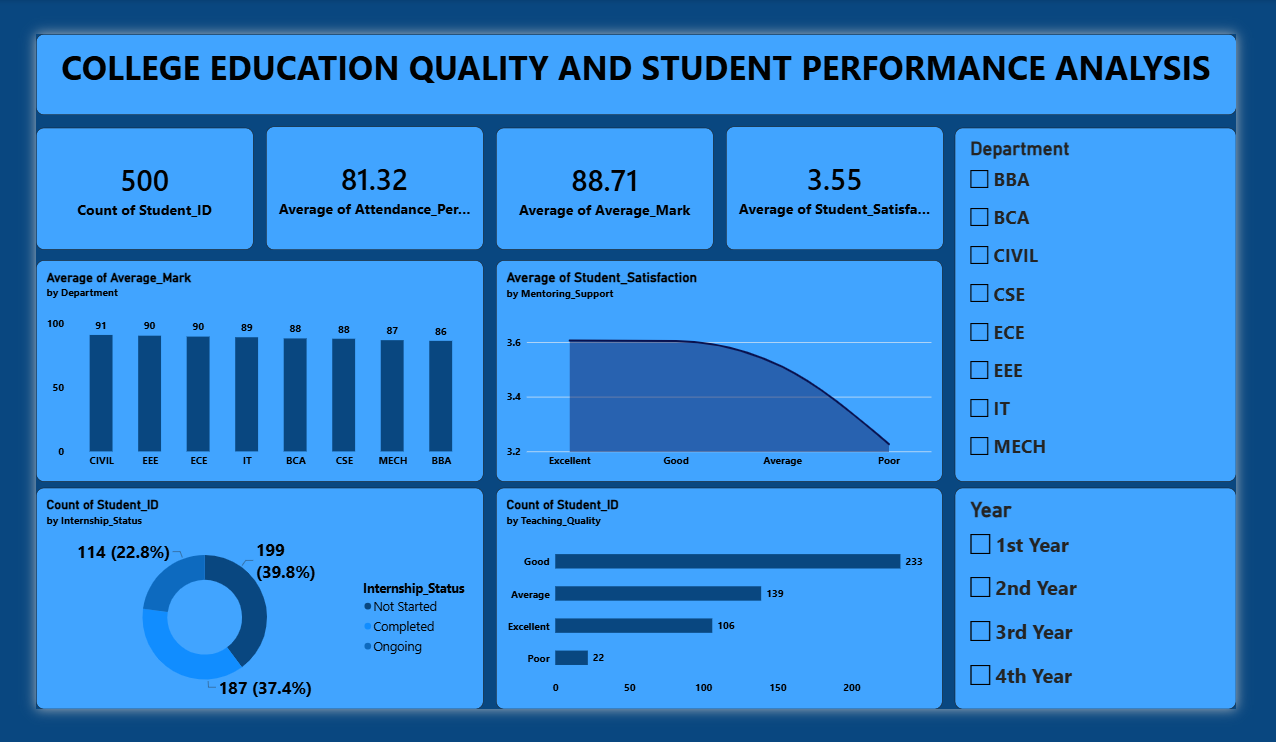

The page's visual inventory and layout, read from the dashboard file:
{"tool":"powerbi","page":{"name":"Page 2","canvas":[1920,1080],"ordinal":1},"visuals":[{"type":"textbox","box":[0,0,1920.4,129.7],"z":0},{"type":"card","fields":{"Values":["CountNonNull(EducationQualityData.Student_ID)"]},"box":[0,150.3,347.9,195.5],"z":1000},{"type":"card","fields":{"Values":["Avg(EducationQualityData.Attendance_Percentage)"]},"box":[368.4,148.2,347.9,197.6],"z":2000},{"type":"card","fields":{"Values":["Avg(EducationQualityData.Average_Mark)"]},"box":[736.9,150.3,347.9,195.5],"z":3000},{"type":"card","fields":{"Values":["Avg(EducationQualityData.Student_Satisfaction)"]},"box":[1103.3,148.2,347.9,197.6],"z":4000},{"type":"slicer","fields":{"Values":["EducationQualityData.Department"]},"box":[1469.6,150.3,450.8,566],"z":5000},{"type":"slicer","fields":{"Values":["EducationQualityData.Year"]},"box":[1469.6,726.6,450.8,354],"z":6000},{"type":"barChart","fields":{"Category":["EducationQualityData.Teaching_Quality"],"Y":["CountNonNull(EducationQualityData.Student_ID)"]},"box":[736.9,726.6,714.2,354],"z":7000},{"type":"columnChart","fields":{"Category":["EducationQualityData.Department"],"Y":["Avg(EducationQualityData.Average_Mark)"]},"box":[0,362.3,716.3,354],"z":8000},{"type":"donutChart","fields":{"Category":["EducationQualityData.Internship_Status"],"Y":["CountNonNull(EducationQualityData.Student_ID)"]},"box":[0,726.6,716.3,354],"z":9000},{"type":"areaChart","fields":{"Category":["EducationQualityData.Mentoring_Support"],"Y":["Avg(EducationQualityData.Student_Satisfaction)"]},"box":[736.9,362.3,714.2,354],"z":10000}]}

Visuals, with their boxes in screenshot pixels (x1, y1, x2, y2):
textbox: region(27, 27, 1241, 109)
card - CountNonNull(EducationQualityData.Student_ID): region(27, 122, 247, 245)
card - Avg(EducationQualityData.Attendance_Percentage): region(259, 120, 479, 245)
card - Avg(EducationQualityData.Average_Mark): region(492, 122, 712, 245)
card - Avg(EducationQualityData.Student_Satisfaction): region(724, 120, 944, 245)
slicer - EducationQualityData.Department: region(956, 122, 1241, 479)
slicer - EducationQualityData.Year: region(956, 486, 1241, 710)
barChart - EducationQualityData.Teaching_Quality x CountNonNull(EducationQualityData.Student_ID): region(492, 486, 944, 710)
columnChart - EducationQualityData.Department x Avg(EducationQualityData.Average_Mark): region(27, 256, 479, 479)
donutChart - EducationQualityData.Internship_Status x CountNonNull(EducationQualityData.Student_ID): region(27, 486, 479, 710)
areaChart - EducationQualityData.Mentoring_Support x Avg(EducationQualityData.Student_Satisfaction): region(492, 256, 944, 479)
